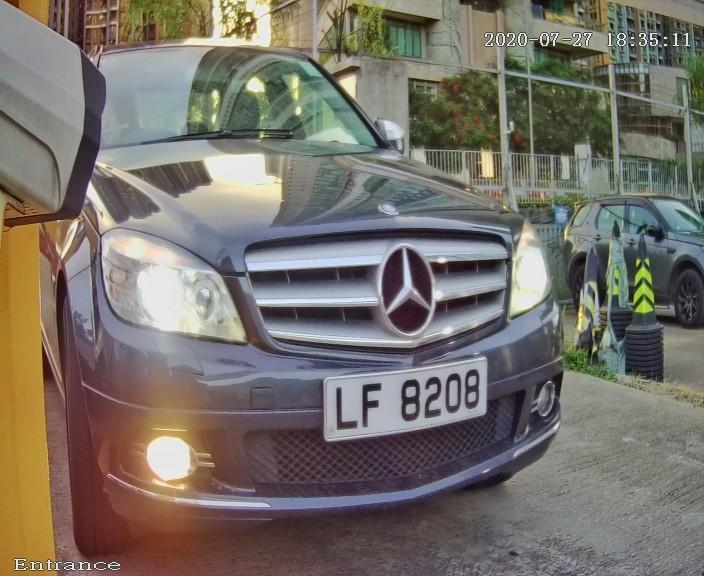privatecar: (32, 37, 601, 559)
